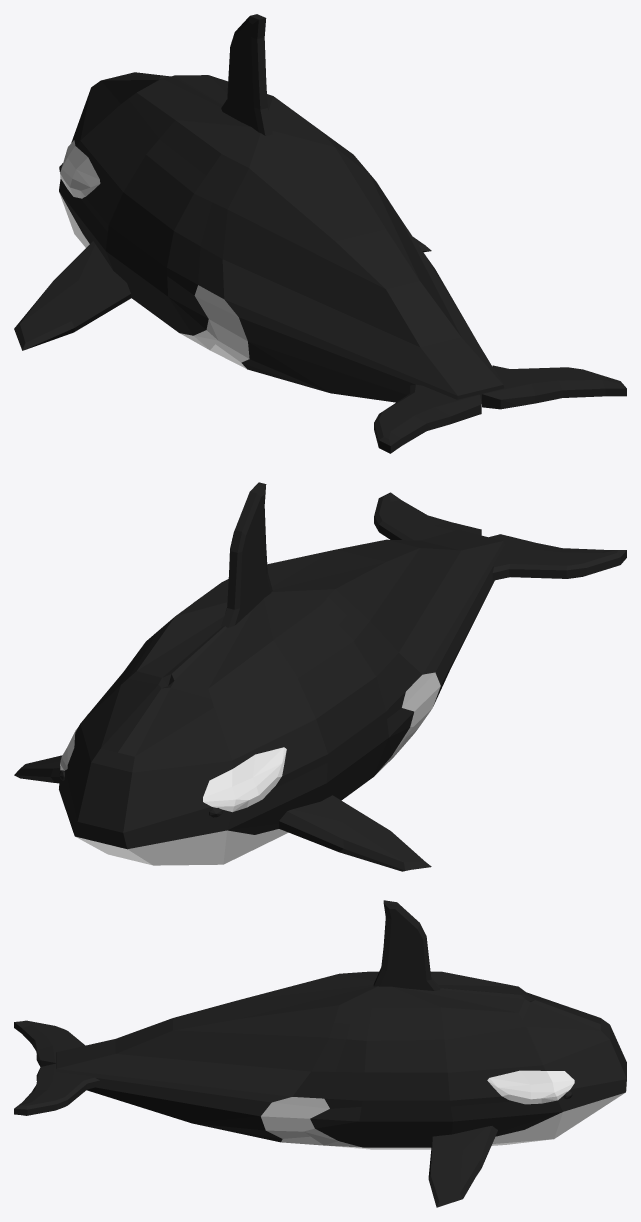
File: killer_whale.obj
The picture shows the model from 3 angles, top to bottom: view 1: azimuth 30°, elevation 25°; view 2: azimuth 150°, elevation 25°; view 3: azimuth 270°, elevation 25°; orthographic projection. The views are drawn at different scales.
Parts seen in each view (by area): view 1: sphere; view 2: sphere; view 3: sphere.
Boxes of the visible parts, bbox=[...] form: sphere: bbox=[14, 14, 626, 453]; sphere: bbox=[14, 482, 626, 871]; sphere: bbox=[14, 900, 626, 1207].
Size of the model in its own units: 1.96 by 1.47 by 3.38.
